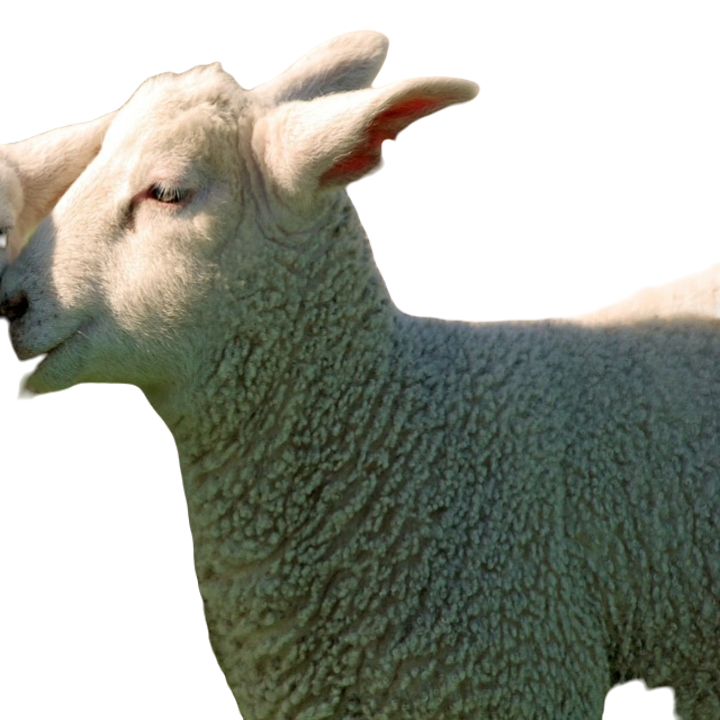Sheep: (6, 62, 719, 719)
